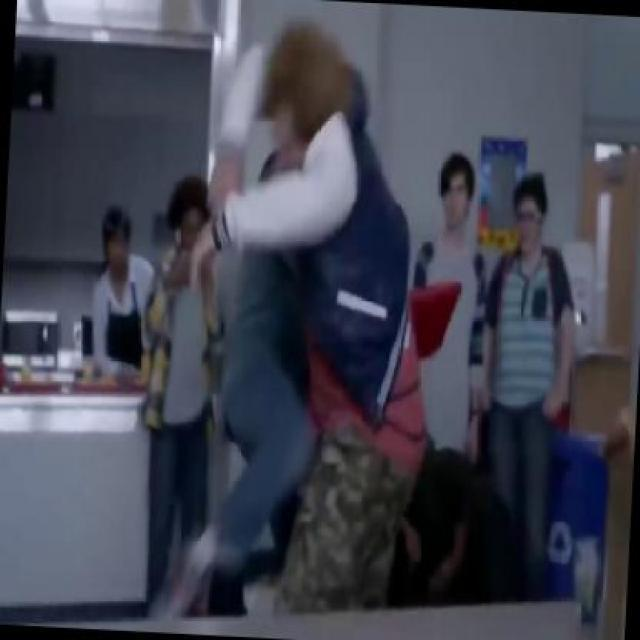fight: (177, 30, 443, 612)
non-fight: (462, 166, 582, 572)
